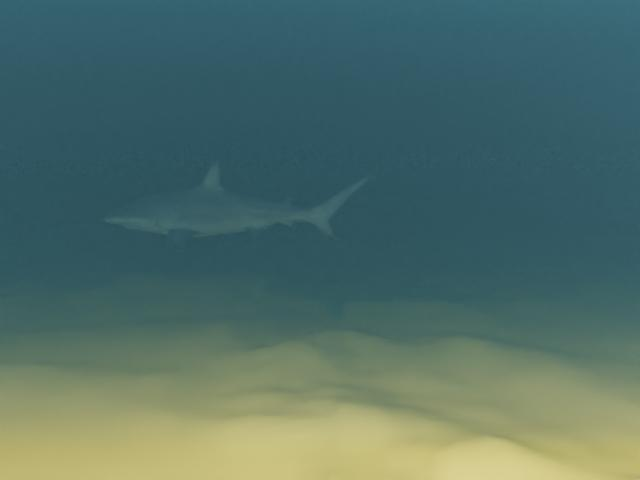Carribean Shark.001: (102, 159, 379, 252)
